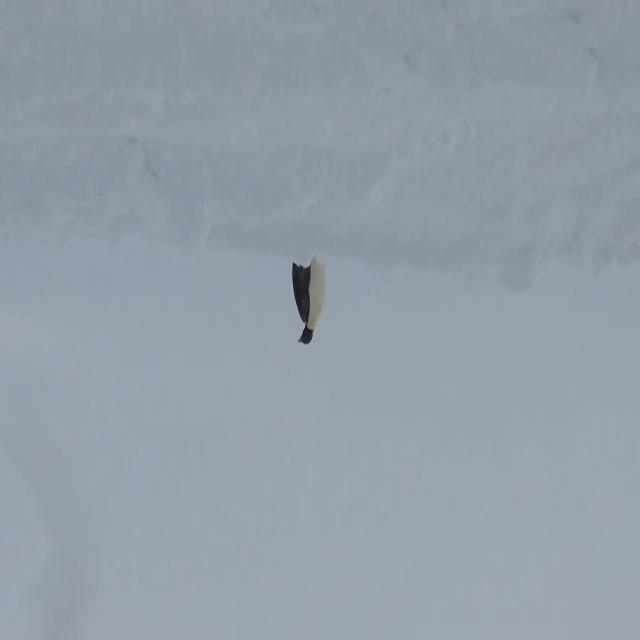penguin: (291, 258, 326, 343)
